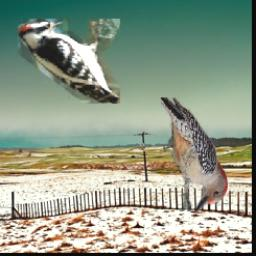Woodpecker: (18, 19, 120, 104), (161, 97, 228, 211)
